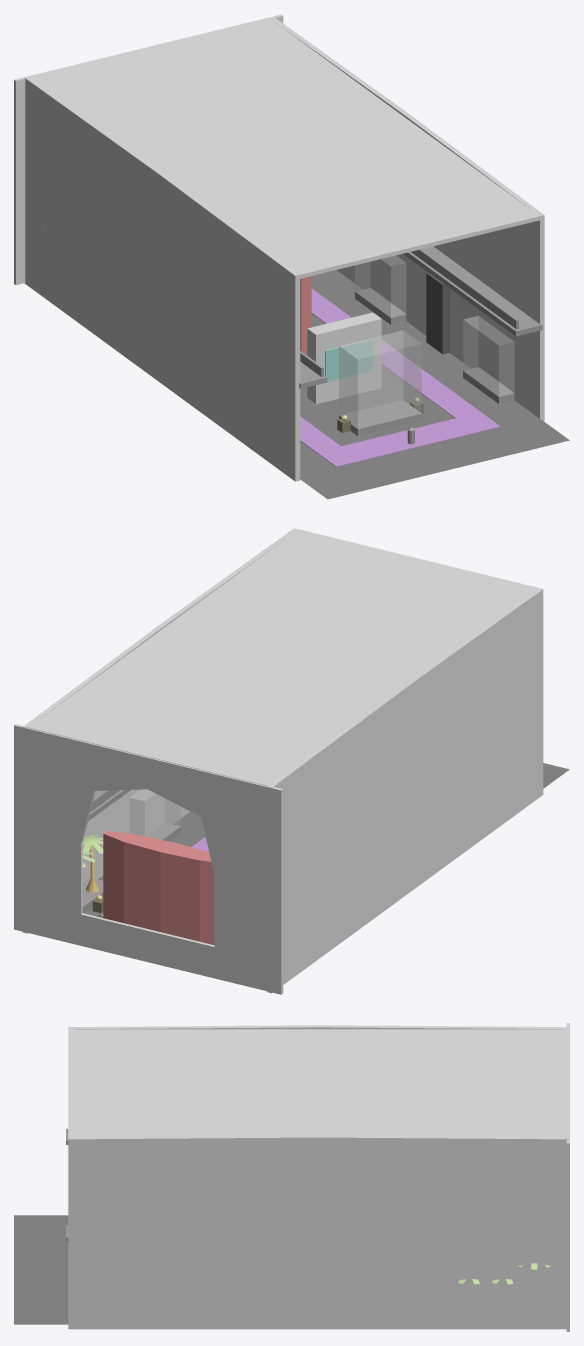
The model's file is museum-dinoroom(V1).fbx.
3 views of the same model, one above another, from view 1: azimuth 30°, elevation 25°; view 2: azimuth 150°, elevation 25°; view 3: azimuth 270°, elevation 25° (orthographic). The views are drawn at different scales.
Visible parts, largest first — view 1: pCube70, pCube64, floor3, pCube65, pCube75, pCube91, pCube80, pCube90, pCube63, pCube87, pCube67, pCube76 (+6 smaller); view 2: pCube70, pCube64, pCube63, statue4, pCube65, pCube87, floor3; view 3: pCube65, pCube70, floor3, pCube64, pCube63.
Boxes of the visible parts, x1=… form: pCube70: x1=27, y1=17, x2=542, y2=278; pCube64: x1=24, y1=76, x2=300, y2=481; floor3: x1=299, y1=270, x2=569, y2=499; pCube65: x1=269, y1=16, x2=544, y2=420; pCube75: x1=339, y1=330, x2=421, y2=428; pCube91: x1=300, y1=288, x2=500, y2=466; pCube80: x1=307, y1=312, x2=381, y2=404; pCube90: x1=463, y1=316, x2=514, y2=396; pCube63: x1=14, y1=14, x2=283, y2=285; pCube87: x1=355, y1=256, x2=405, y2=317; pCube67: x1=403, y1=246, x2=542, y2=336; pCube76: x1=339, y1=400, x2=421, y2=436; pCube70: x1=25, y1=528, x2=540, y2=786; pCube64: x1=267, y1=588, x2=543, y2=993; pCube63: x1=14, y1=724, x2=283, y2=994; statue4: x1=103, y1=830, x2=214, y2=945; pCube65: x1=23, y1=528, x2=295, y2=933; pCube87: x1=130, y1=789, x2=180, y2=839; floor3: x1=84, y1=763, x2=569, y2=916; pCube65: x1=68, y1=1135, x2=569, y2=1329; pCube70: x1=68, y1=1028, x2=568, y2=1138; floor3: x1=14, y1=1215, x2=68, y2=1324; pCube64: x1=68, y1=1025, x2=569, y2=1029; pCube63: x1=566, y1=1023, x2=569, y2=1331.
Bounding box in the file's own units: 33.08 × 24.59 × 64.54.
